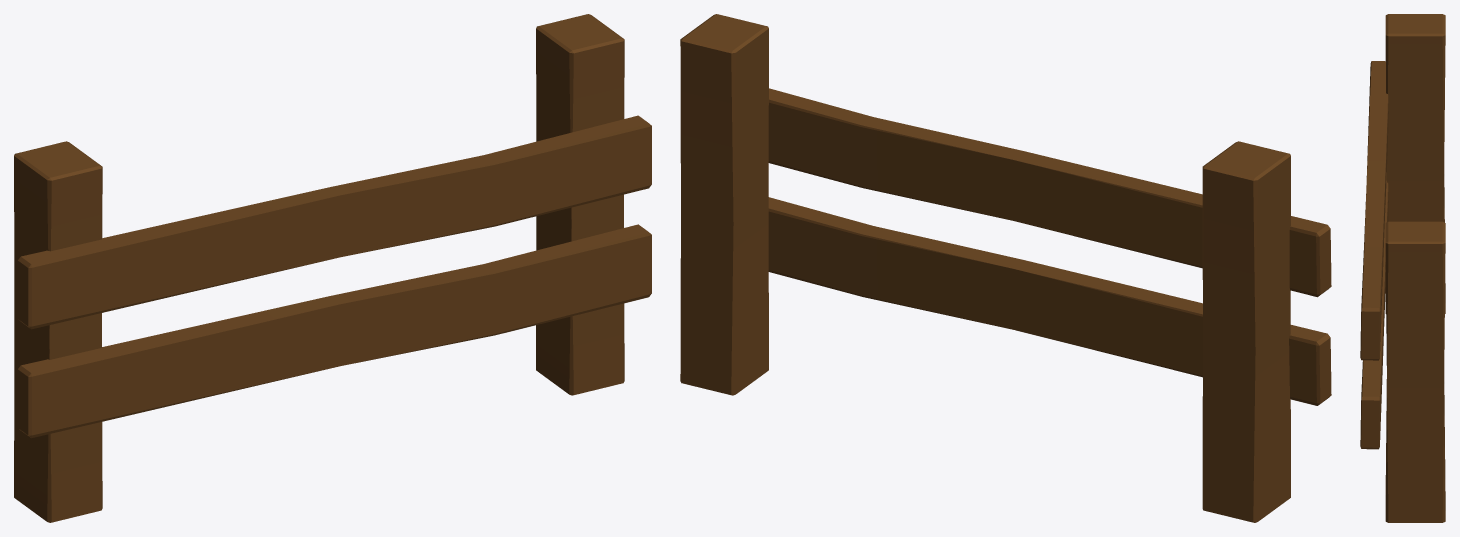
The model's file is Valla1.fbx.
3 renders of one model, left to right at view 1: azimuth 30°, elevation 25°; view 2: azimuth 150°, elevation 25°; view 3: azimuth 270°, elevation 25°, orthographic. The views are drawn at different scales.
Parts seen in each view (by area): view 1: Valla1; view 2: Valla1; view 3: Valla1.
Boxes of the visible parts, bbox=[...] form: Valla1: bbox=[14, 14, 651, 522]; Valla1: bbox=[680, 14, 1331, 522]; Valla1: bbox=[1360, 14, 1445, 522].
Bounding box in the file's own units: 1.12 × 0.595 × 0.1633.
